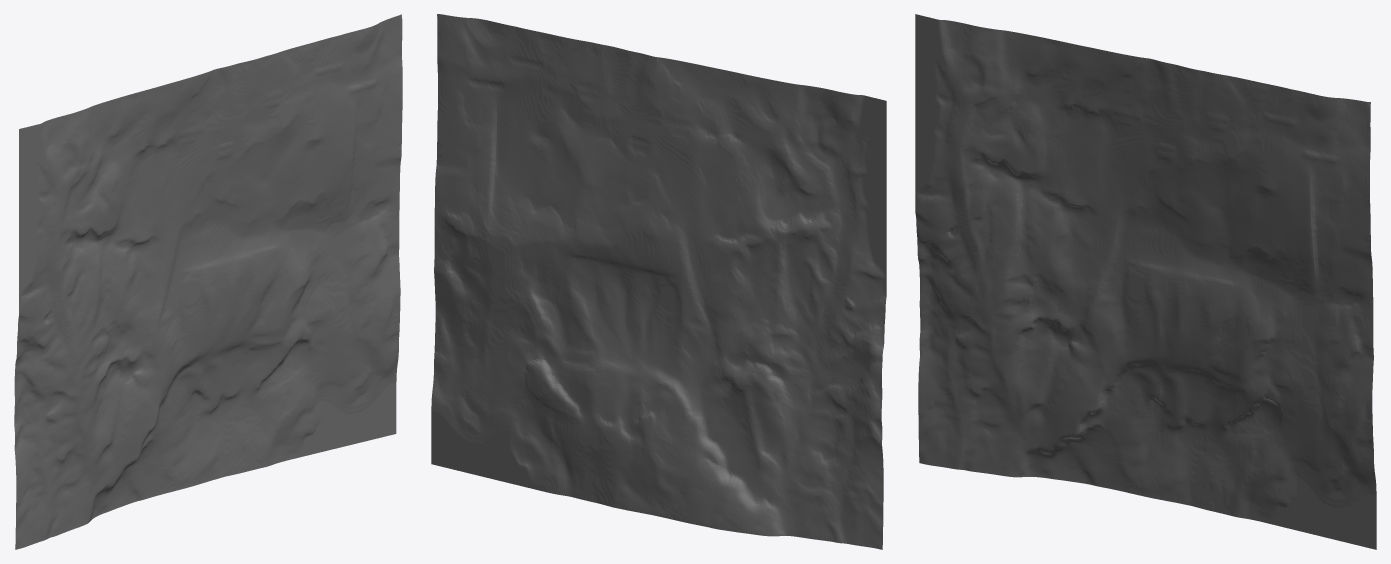
The model's file is depthwizard_mesh_556cfb01.glb.
3 renders of one model, left to right at view 1: azimuth 30°, elevation 25°; view 2: azimuth 150°, elevation 25°; view 3: azimuth 330°, elevation 25°, orthographic. The views are drawn at different scales.
Visible parts, largest first — view 1: geometry_0; view 2: geometry_0; view 3: geometry_0.
Boxes of the visible parts, <box> form: geometry_0: <box>14,14,402,549</box>; geometry_0: <box>431,14,886,549</box>; geometry_0: <box>915,14,1376,549</box>.
Size of the model in its own units: 2550 by 2550 by 300.
Materials: 1 (1 with a texture image).
